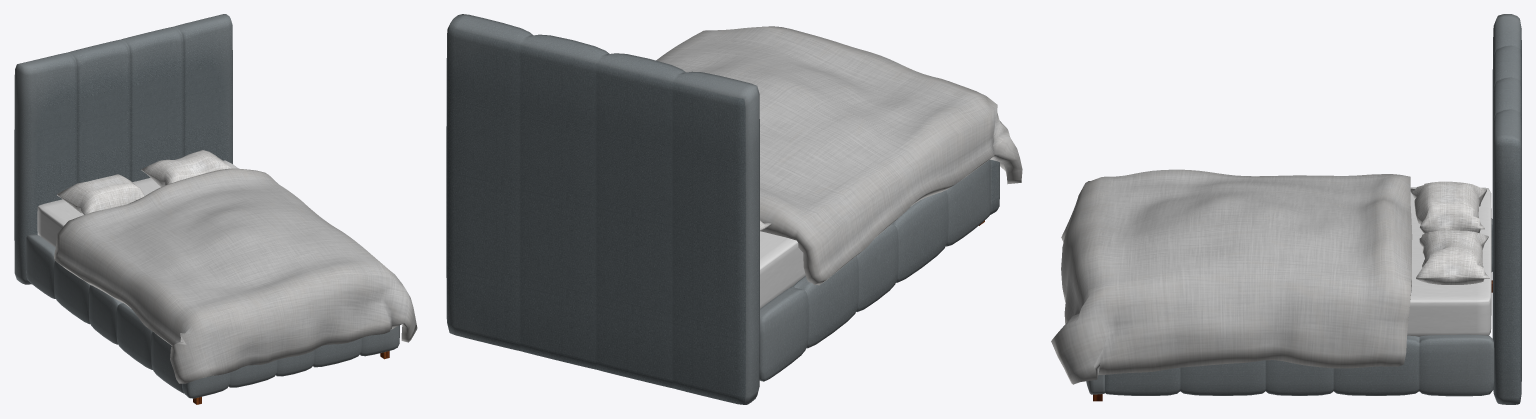
Rendered from BED_5.glb.
3 views of the same model, side by side, from view 1: azimuth 30°, elevation 25°; view 2: azimuth 150°, elevation 25°; view 3: azimuth 270°, elevation 25° (orthographic). The views are drawn at different scales.
Parts seen in each view (by area): view 1: Duvet_Duvet_0; view 2: Duvet_Duvet_0; view 3: Duvet_Duvet_0.
Part boxes in pixels (x1,y1,x2,y2): Duvet_Duvet_0: (14,14,417,404); Duvet_Duvet_0: (446,14,1022,404); Duvet_Duvet_0: (1051,14,1521,404).
Bounding box in the file's own units: 0.9225 × 0.7974 × 1.27.
Materials: 5 (5 with a texture image).
